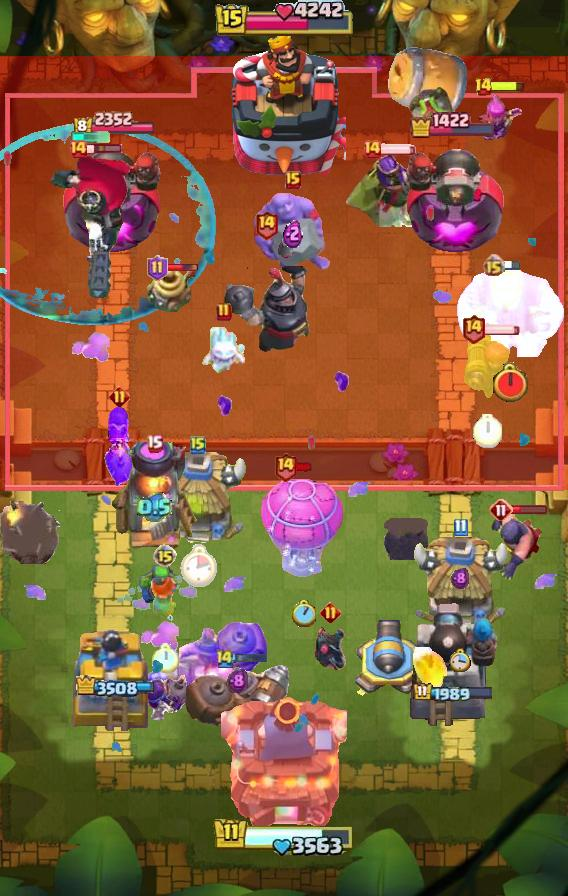archer-queen: (252, 190, 334, 274)
baby-dragon: (1, 501, 59, 563), (384, 518, 428, 560)
bar-level: (407, 84, 465, 132)
barbarian-hut: (340, 153, 430, 227)
bat: (200, 326, 248, 374)
battle-ram: (311, 625, 349, 675)
cannon-cart: (259, 472, 347, 580)
clock: (212, 817, 356, 859), (213, 0, 355, 40)
dirt: (388, 47, 470, 119)
electro-spirit: (137, 492, 172, 523), (283, 218, 303, 248), (227, 668, 248, 694), (451, 566, 469, 589)
elixir: (490, 362, 529, 404), (180, 544, 217, 587), (474, 414, 502, 448), (153, 643, 180, 673), (291, 601, 316, 628), (449, 648, 471, 672)
emote: (490, 79, 526, 92), (379, 143, 417, 155), (483, 323, 521, 335), (86, 143, 123, 155), (233, 652, 268, 664), (512, 504, 549, 515), (165, 263, 199, 273), (502, 260, 521, 272), (294, 461, 313, 473)
evolution-symbol: (473, 90, 523, 146)
giant-skeleton: (455, 263, 565, 357)
giant-snowball: (135, 565, 177, 605)
goblin-ball: (141, 673, 193, 727), (102, 407, 136, 489)
goblin-drill: (147, 264, 195, 312)
hog-rider: (146, 572, 184, 624)
hunter: (110, 442, 198, 552)
ice-spirit: (69, 131, 111, 143)
inferno-tower: (46, 153, 134, 299)
king-tower: (222, 31, 346, 181), (221, 690, 347, 826)
mega-minion: (463, 325, 511, 401)
monk: (488, 507, 544, 581)
pad_0: (0, 123, 216, 329)
prince: (147, 452, 249, 548), (409, 537, 511, 633)
queen-tower: (64, 621, 164, 731)
royal-guardian: (220, 236, 312, 354)
royal-recruit: (352, 618, 424, 702)
selected: (409, 111, 497, 139), (72, 111, 156, 138), (74, 674, 154, 698), (412, 682, 494, 704)
text: (273, 450, 298, 481), (254, 209, 279, 239), (462, 312, 486, 343), (489, 498, 513, 522), (153, 544, 177, 568), (147, 255, 169, 281), (482, 254, 505, 278), (110, 385, 131, 406), (320, 602, 341, 623), (215, 647, 235, 669), (68, 139, 88, 159), (362, 139, 382, 159), (475, 77, 494, 97), (146, 435, 163, 454), (216, 302, 232, 322), (190, 435, 206, 455), (285, 171, 301, 189), (453, 519, 467, 538)
tower-bar: (62, 138, 166, 256), (401, 138, 505, 256), (408, 599, 498, 731)
valkyrie: (411, 647, 449, 693)
wizard: (145, 621, 269, 699), (181, 662, 293, 732)
